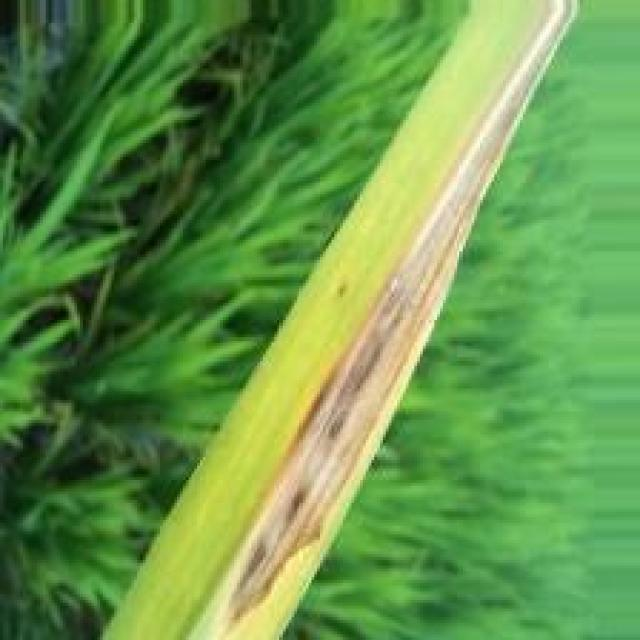Leaf_Scald: (218, 26, 563, 631)
